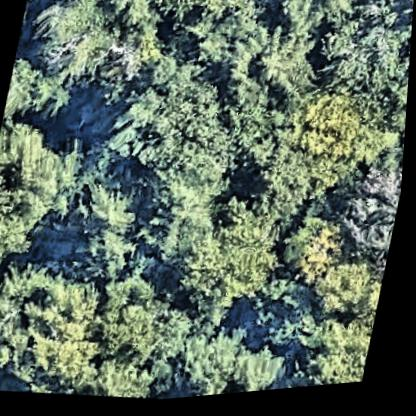tree-top: (97, 40, 251, 212), (279, 88, 409, 204), (176, 197, 294, 321), (307, 4, 414, 113), (17, 276, 118, 390), (58, 178, 155, 293), (20, 0, 127, 97), (175, 317, 293, 402), (0, 104, 98, 206), (94, 260, 177, 374), (251, 145, 347, 232), (324, 169, 406, 270), (276, 209, 351, 300), (0, 166, 59, 278), (247, 29, 327, 107), (281, 332, 376, 395), (216, 105, 292, 177), (308, 255, 378, 332), (136, 0, 271, 38), (94, 351, 182, 408), (265, 0, 363, 50), (0, 250, 56, 313), (5, 54, 52, 121), (380, 56, 412, 150), (156, 311, 200, 374), (0, 287, 27, 355)
